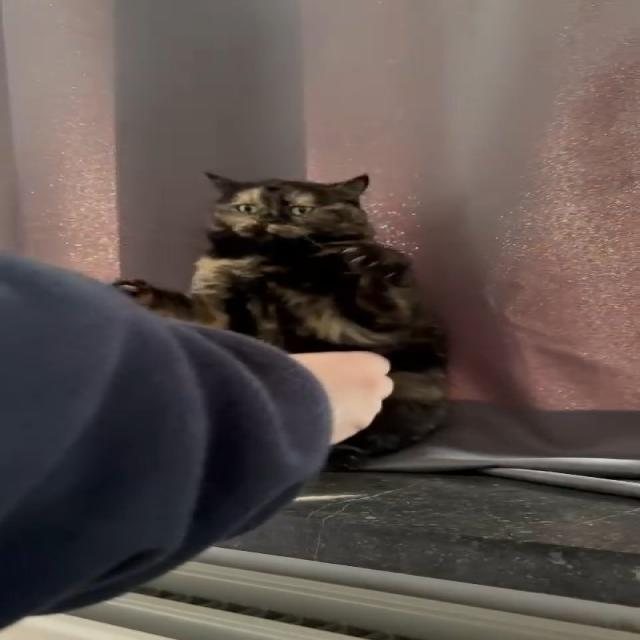authorized: (110, 170, 450, 468)
